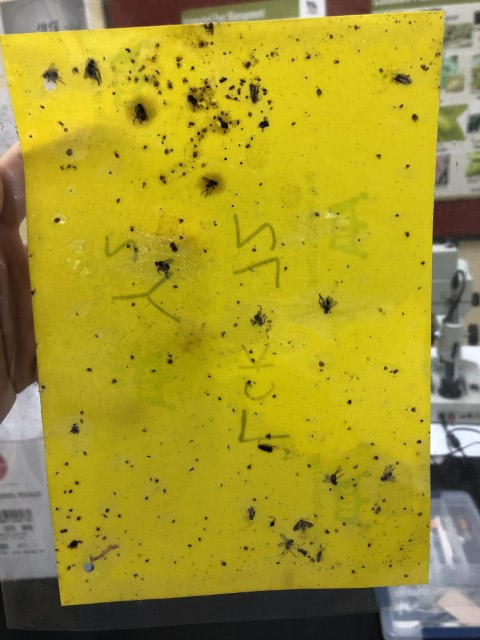DBM: (390, 70, 415, 88), (291, 517, 315, 535), (255, 440, 278, 457), (246, 83, 262, 105), (247, 506, 257, 522)
Other: (275, 531, 308, 561), (81, 55, 104, 90), (39, 62, 68, 89), (319, 463, 347, 488), (315, 290, 339, 317), (246, 303, 270, 330), (153, 255, 176, 281), (198, 174, 220, 199), (130, 104, 152, 127), (377, 462, 397, 487), (185, 92, 198, 112)
